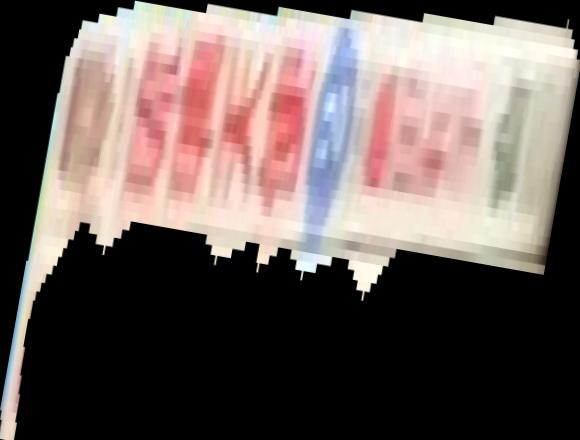flat: (1, 1, 580, 440)
